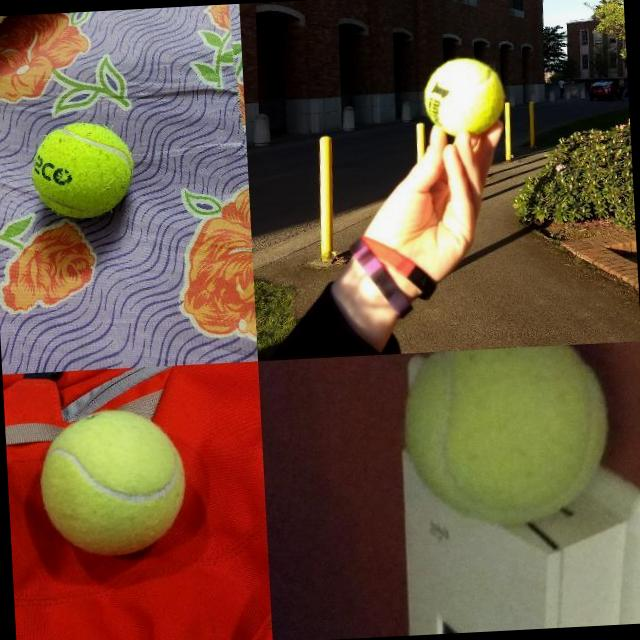Tennis Ball: (397, 343, 618, 531), (36, 406, 190, 560), (28, 119, 136, 222), (420, 54, 508, 136)
